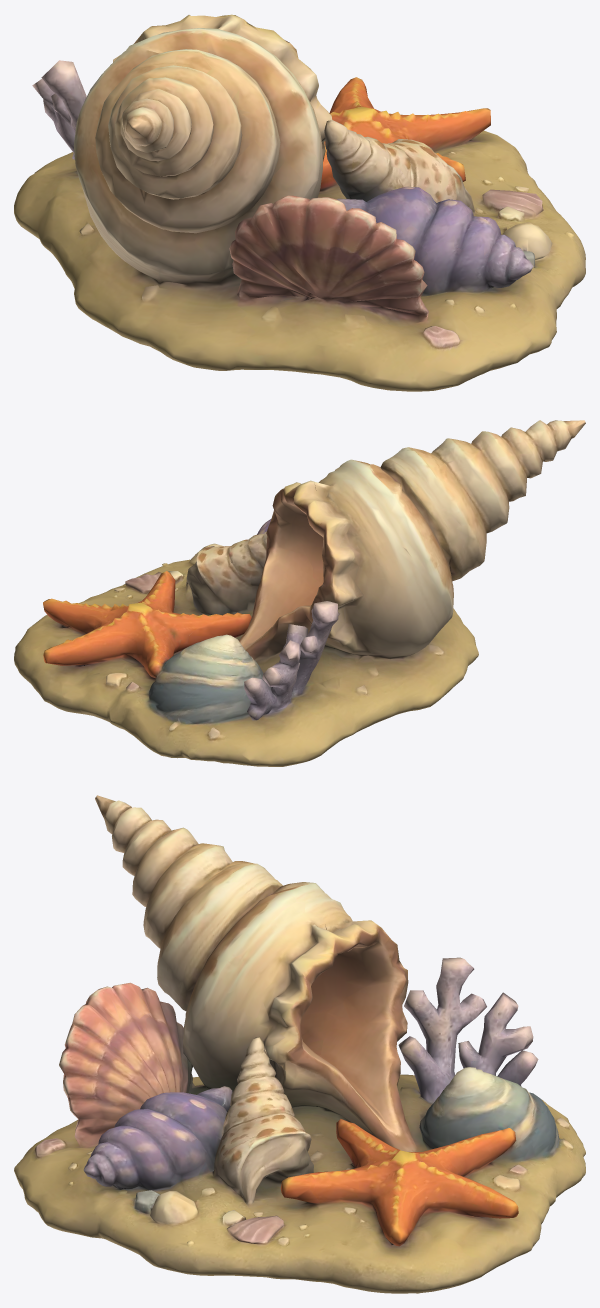
The model's file is caracol.glb.
The picture shows the model from 3 angles, top to bottom: view 1: azimuth 30°, elevation 25°; view 2: azimuth 150°, elevation 25°; view 3: azimuth 270°, elevation 25°; orthographic projection. The views are drawn at different scales.
Visible parts, largest first — view 1: tripo_node_842db3a9-03e9-410f-b6b2-7347cd1f7d38; view 2: tripo_node_842db3a9-03e9-410f-b6b2-7347cd1f7d38; view 3: tripo_node_842db3a9-03e9-410f-b6b2-7347cd1f7d38.
Part boxes in pixels (box(x1,y1,x2,y2)): tripo_node_842db3a9-03e9-410f-b6b2-7347cd1f7d38: box(14, 14, 585, 391); tripo_node_842db3a9-03e9-410f-b6b2-7347cd1f7d38: box(14, 420, 585, 766); tripo_node_842db3a9-03e9-410f-b6b2-7347cd1f7d38: box(14, 795, 585, 1293).
Size of the model in its own units: 0.9827 by 0.5208 by 1.
1 material, 1 textured.
